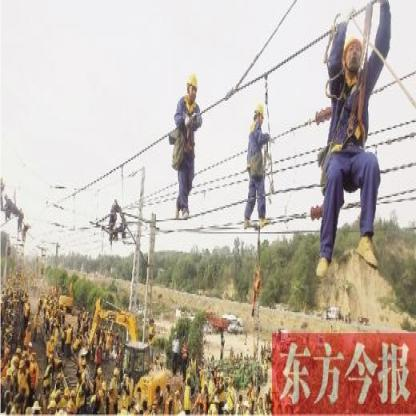helmet: (341, 26, 365, 89), (184, 68, 199, 104), (251, 97, 265, 128)
